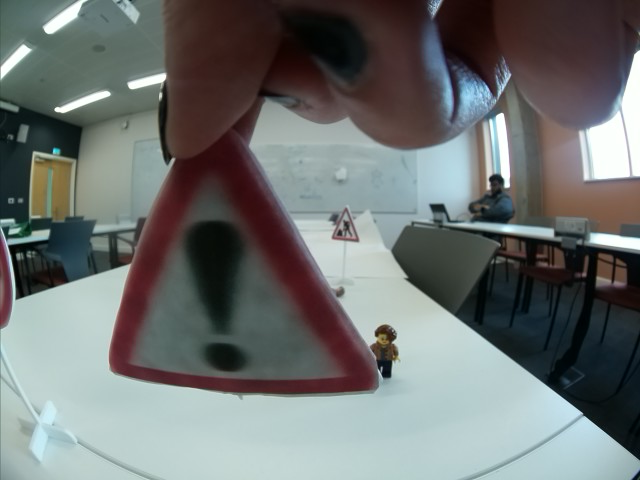Lego Man: (373, 324, 401, 379)
Roadworks: (328, 205, 361, 242)
Warning: (108, 148, 380, 396)
